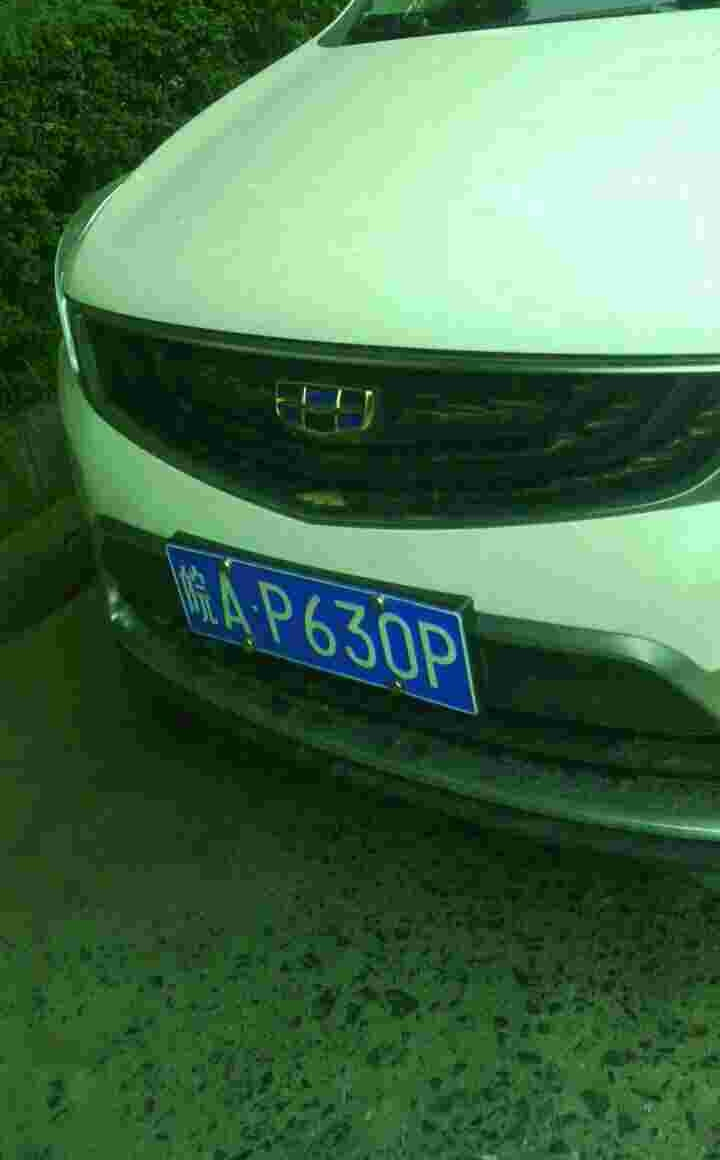license_plate: (167, 556, 465, 716)
